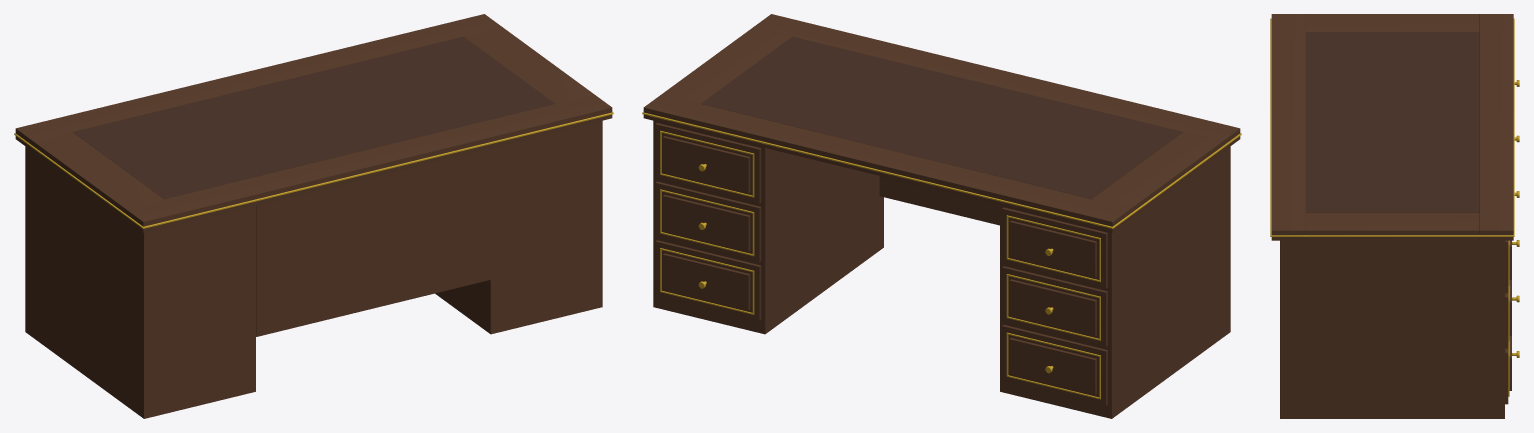
The model's file is prop_desk_bank.glb.
The picture shows the model from 3 angles, left to right: view 1: azimuth 30°, elevation 25°; view 2: azimuth 150°, elevation 25°; view 3: azimuth 270°, elevation 25°; orthographic projection. The views are drawn at different scales.
Parts seen in each view (by area): view 1: Desk; view 2: Desk; view 3: Desk.
Part boxes in pixels (left/top/right/bottom): Desk: left=14, top=14, right=613, bottom=418; Desk: left=642, top=14, right=1241, bottom=418; Desk: left=1270, top=14, right=1519, bottom=418.
Size of what is drawn, in the model's own units: 1.81 by 0.74 by 0.875.
